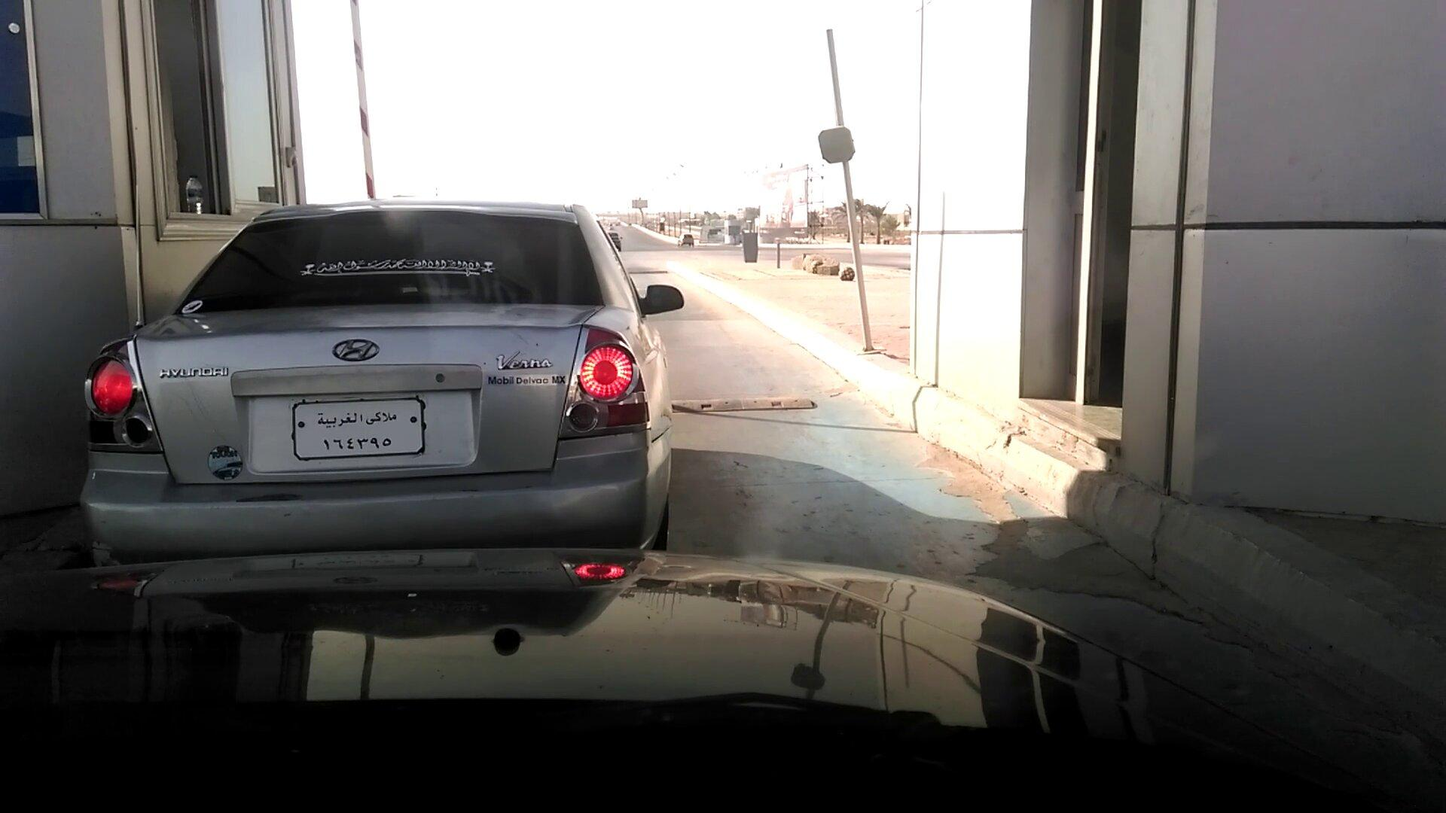Bump: (665, 393, 815, 418)
